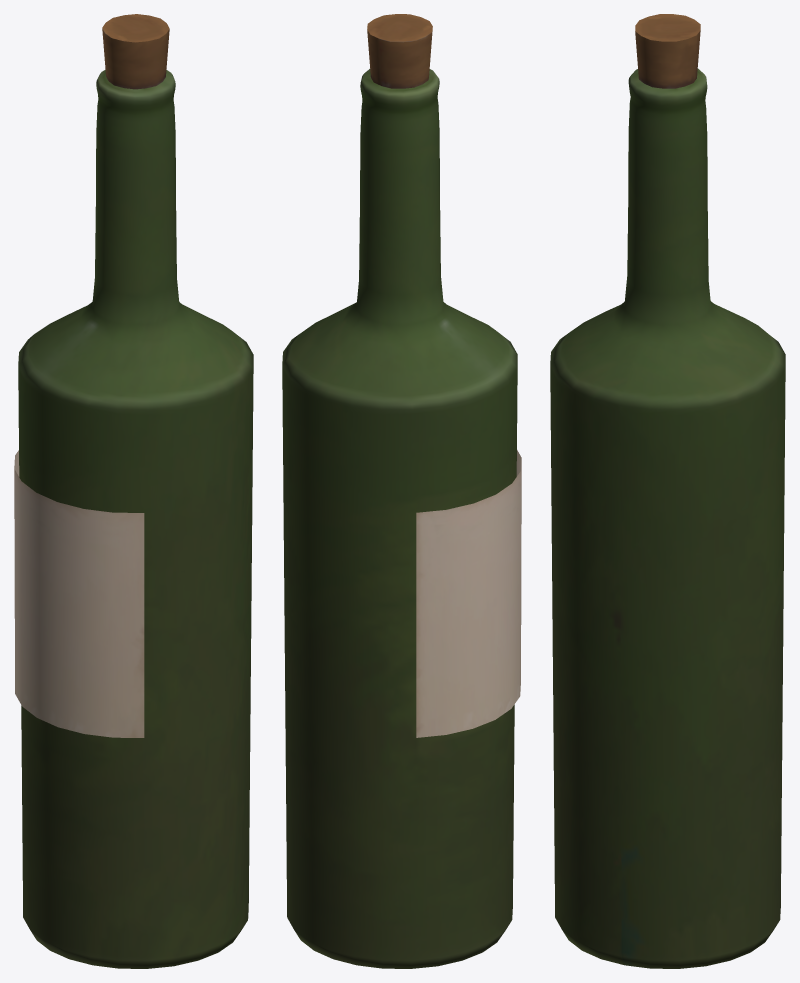
Rendered from SM_Bottles_01.fbx.
3 renders of one model, left to right at view 1: azimuth 30°, elevation 25°; view 2: azimuth 150°, elevation 25°; view 3: azimuth 270°, elevation 25°, orthographic.
Visible parts, largest first — view 1: SM_Bottles_01_LOD0; view 2: SM_Bottles_01_LOD0; view 3: SM_Bottles_01_LOD0.
Part boxes in pixels (x1,y1,x2,y2): SM_Bottles_01_LOD0: (14, 14, 253, 968); SM_Bottles_01_LOD0: (282, 14, 521, 968); SM_Bottles_01_LOD0: (550, 14, 785, 968).
Size of the model in its own units: 7.85 by 7.71 by 32.5.
Materials: 2 (2 with a texture image).
